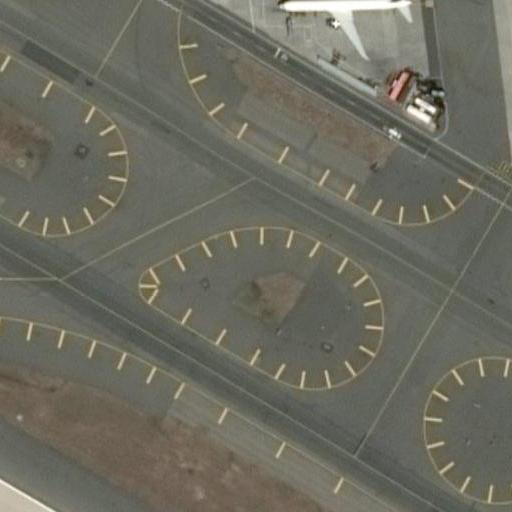Aircraft: (264, 0, 417, 63)
